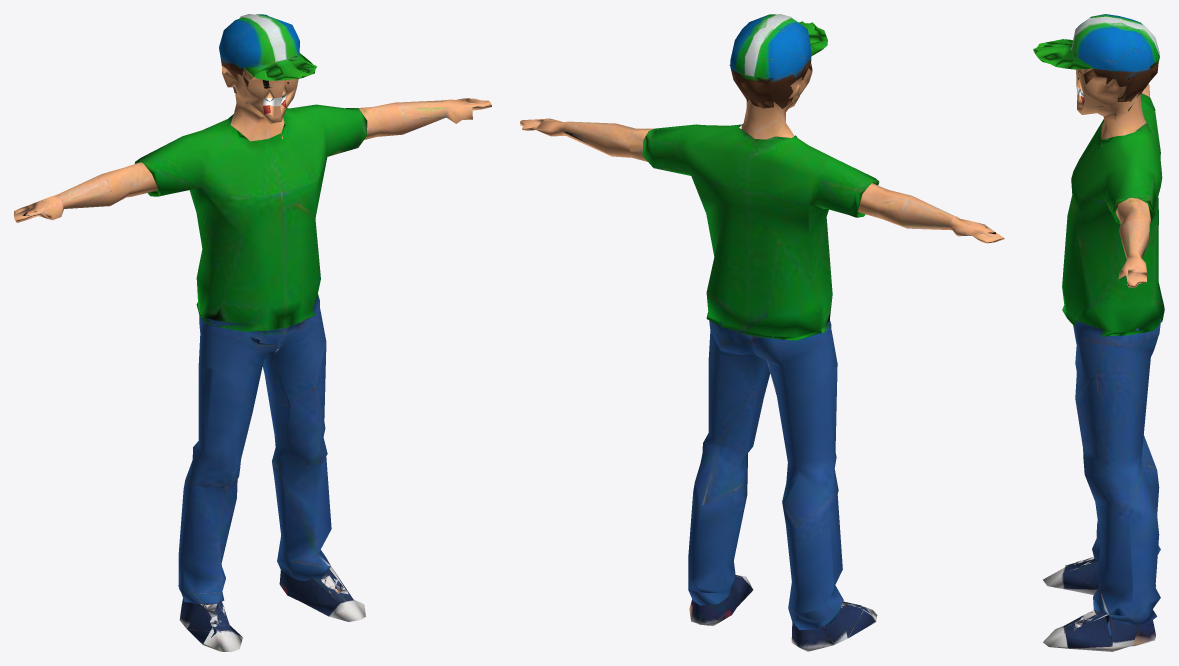
Rendered from fan-lo.glb.
The picture shows the model from 3 angles, left to right: view 1: azimuth 30°, elevation 25°; view 2: azimuth 150°, elevation 25°; view 3: azimuth 270°, elevation 25°; orthographic projection.
Bounding box in the file's own units: 0.7938 × 0.9497 × 0.1895.
Materials: 1 (1 with a texture image).
